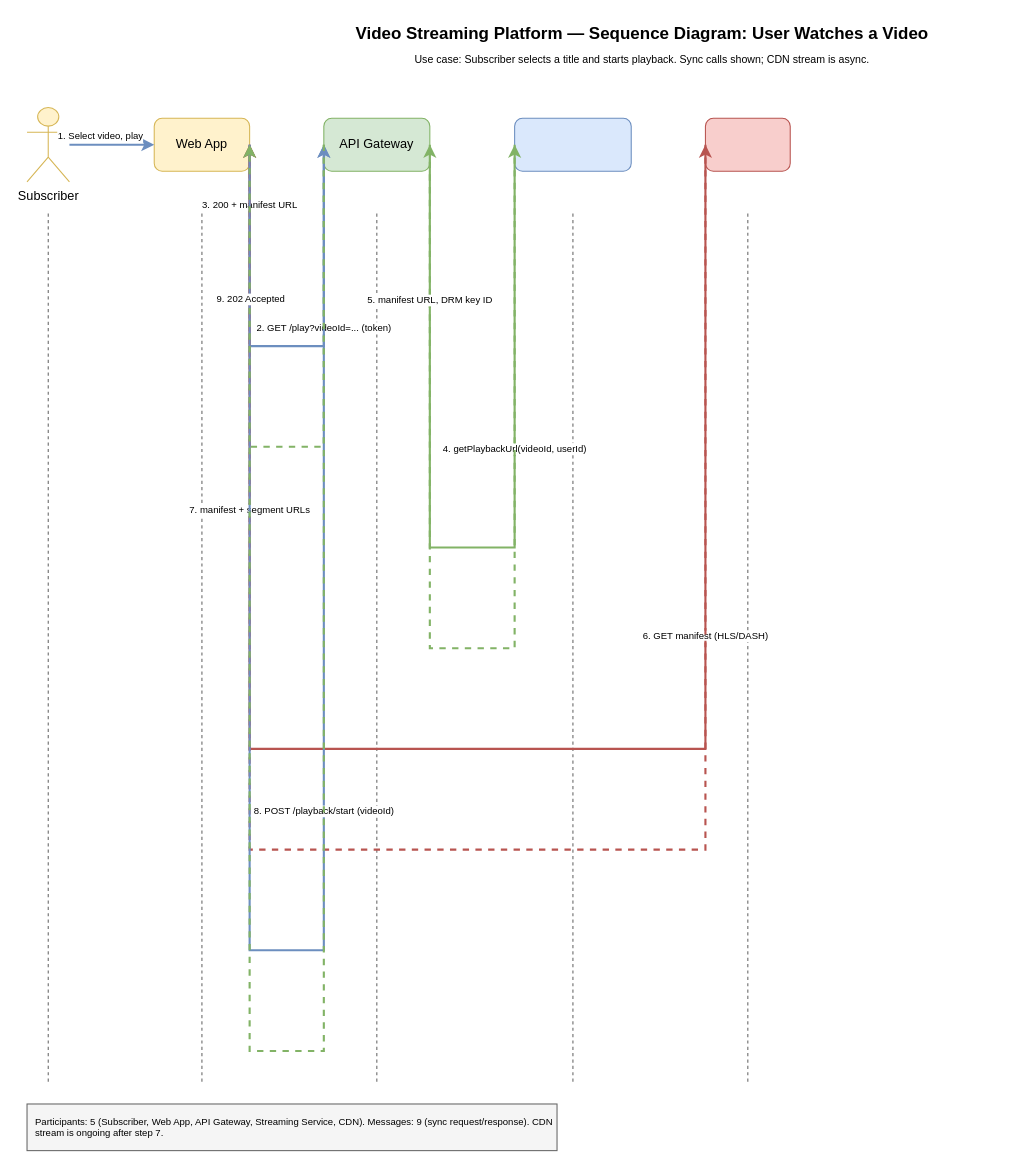
The diagram is 1021 pixels wide and 1169 high, and some of its shapes have lost their labels. The box of each missing label's shape, as (x1, y1, x2, y2) in pixels:
CDN: (704, 117, 790, 171)
Streaming Service: (514, 117, 631, 171)
